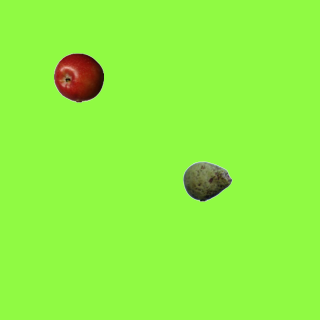Apple Braeburn: (53, 52, 103, 102)
Pear Stone: (182, 156, 232, 206)
